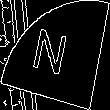N_S: (33, 25, 77, 85)
